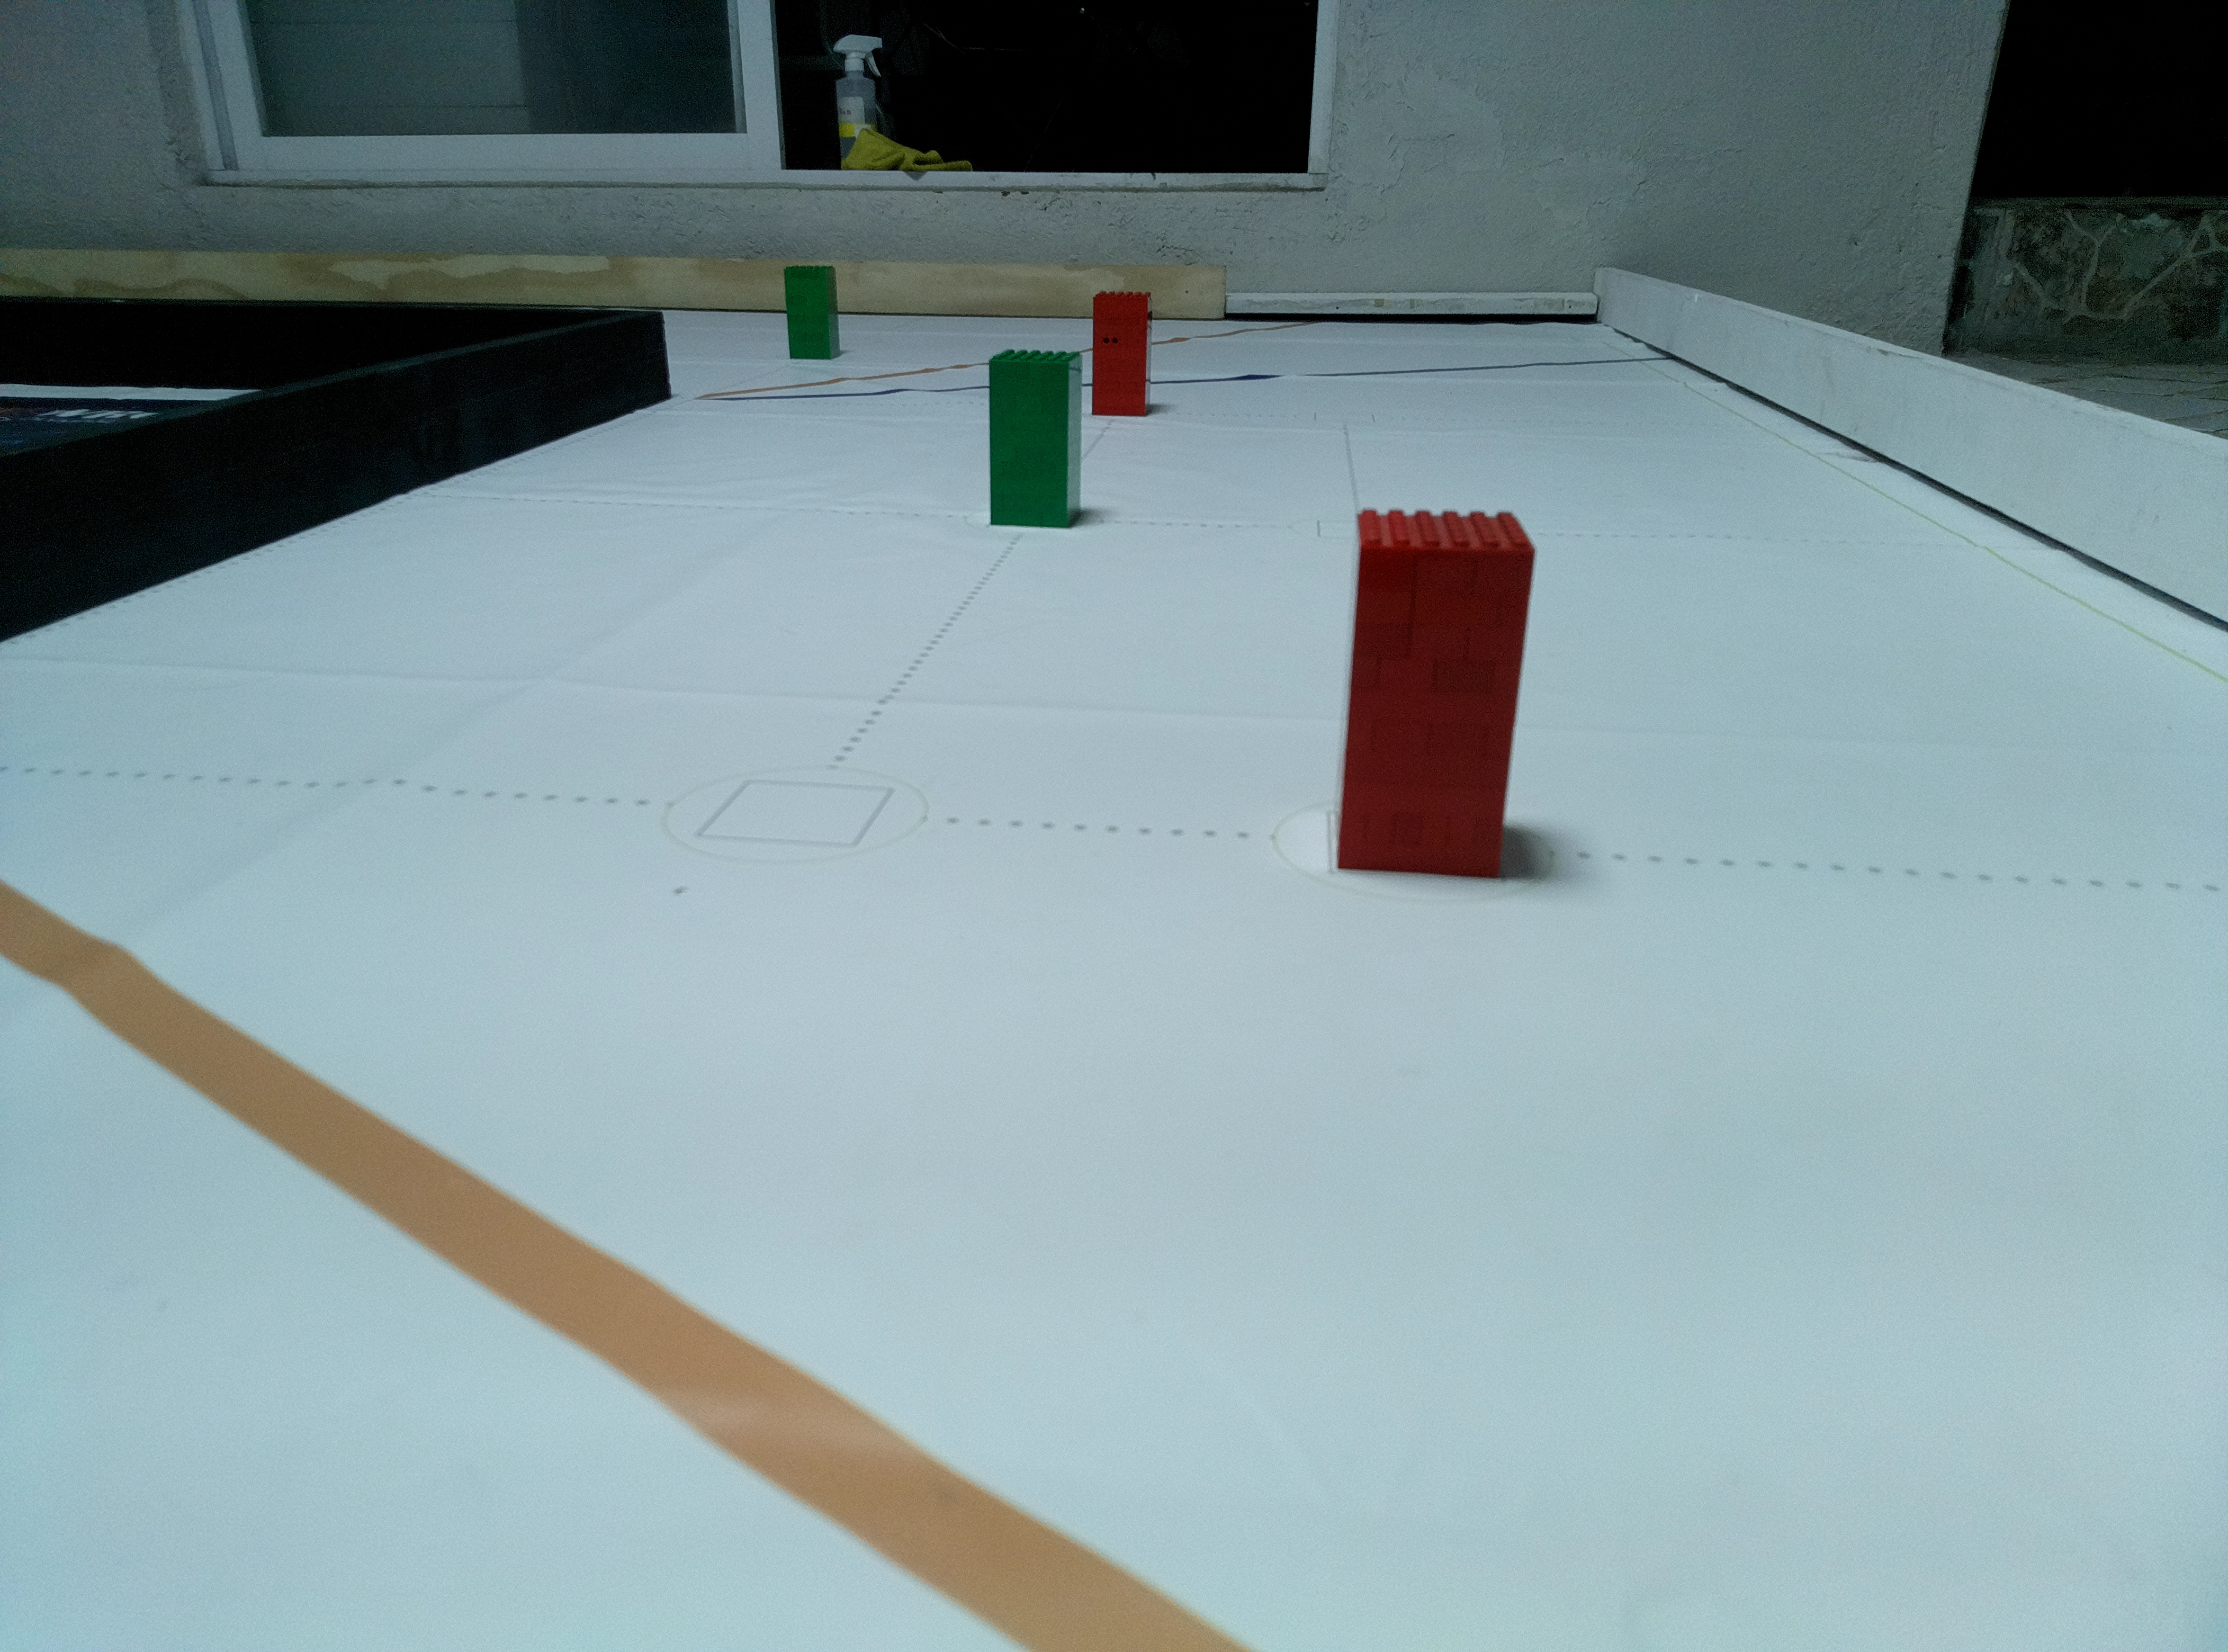greenbox: (984, 345, 1081, 528), (779, 259, 845, 366)
redbox: (1343, 505, 1537, 885), (1088, 283, 1150, 420)
